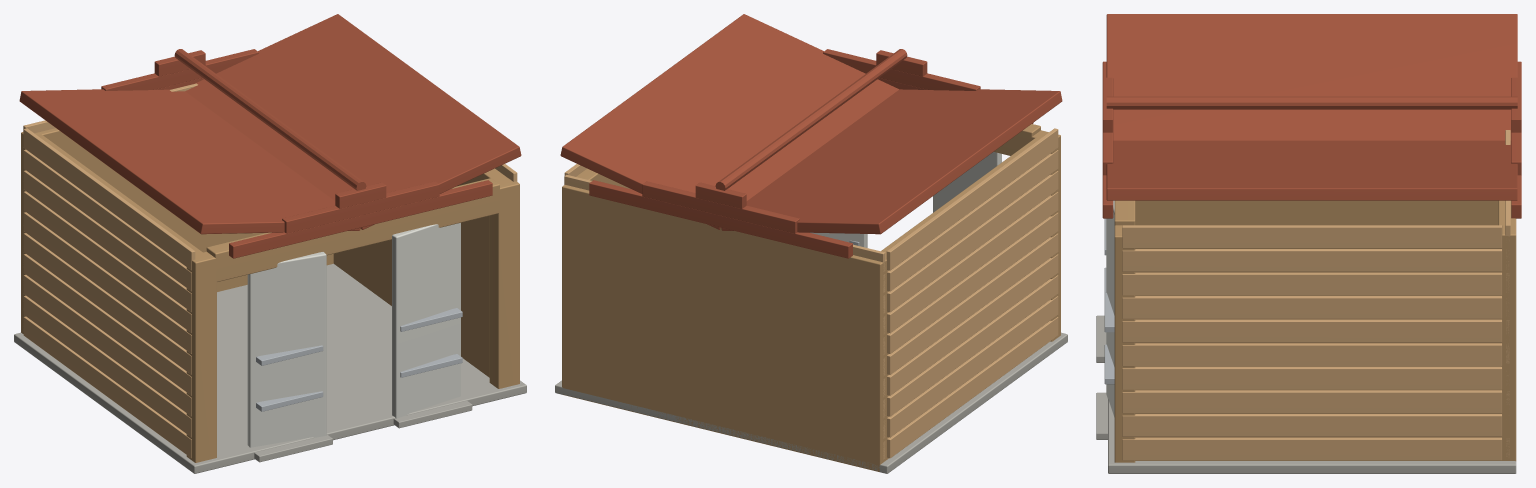
File: garage_timber.glb
The picture shows the model from 3 angles, left to right: view 1: azimuth 30°, elevation 25°; view 2: azimuth 150°, elevation 25°; view 3: azimuth 270°, elevation 25°; orthographic projection. The views are drawn at different scales.
Visible parts, largest first — view 1: Garage roof slope.003, Tint.011, Garage roof slope.002, Garage slab.001, Garage side wall.003, Door jamb.001, Door lintel, Door jamb, Garage back wall.001, Timber cladding.009, Roof gable.009, Timber cladding (+20 smaller); view 2: Garage back wall.001, Garage roof slope.003, Garage roof slope.002, Garage slab.001, Timber cladding.009, Roof gable.006, Timber cladding, Timber cladding.001, Timber cladding.005, Timber cladding.007, Timber cladding.008, Timber cladding.003 (+13 smaller); view 3: Garage roof slope.002, Garage roof slope.003, Garage side wall.002, Timber cladding.019, Timber cladding.010, Timber cladding.012, Timber cladding.013, Timber cladding.015, Timber cladding.017, Timber cladding.014, Timber cladding.011, Timber cladding.018 (+12 smaller).
Boxes of the visible parts, x1,y1,x2,y2 form: Garage roof slope.003: [185, 14, 521, 229]; Tint.011: [247, 223, 460, 447]; Garage roof slope.002: [19, 89, 360, 234]; Garage slab.001: [14, 263, 526, 473]; Garage side wall.003: [333, 168, 507, 377]; Door jamb.001: [489, 178, 519, 388]; Door lintel: [206, 178, 499, 281]; Door jamb: [186, 251, 216, 462]; Garage back wall.001: [21, 128, 333, 333]; Timber cladding.009: [23, 128, 195, 270]; Roof gable.009: [229, 180, 492, 258]; Timber cladding: [23, 316, 191, 458]; Garage back wall.001: [562, 185, 887, 471]; Garage roof slope.003: [560, 14, 898, 229]; Garage roof slope.002: [721, 89, 1062, 234]; Garage slab.001: [555, 332, 1067, 473]; Timber cladding.009: [886, 128, 1058, 270]; Roof gable.006: [589, 180, 852, 258]; Timber cladding: [887, 317, 1058, 458]; Timber cladding.001: [887, 296, 1058, 437]; Timber cladding.005: [887, 212, 1058, 353]; Timber cladding.007: [887, 171, 1058, 312]; Timber cladding.008: [887, 150, 1058, 291]; Timber cladding.003: [887, 254, 1058, 395]; Garage roof slope.002: [1106, 14, 1517, 140]; Garage roof slope.003: [1106, 140, 1517, 200]; Garage side wall.002: [1135, 200, 1498, 225]; Timber cladding.019: [1122, 225, 1502, 248]; Timber cladding.010: [1122, 437, 1502, 460]; Timber cladding.012: [1122, 390, 1502, 413]; Timber cladding.013: [1122, 366, 1502, 389]; Timber cladding.015: [1122, 319, 1502, 342]; Timber cladding.017: [1122, 272, 1502, 295]; Timber cladding.014: [1122, 343, 1502, 366]; Timber cladding.011: [1122, 414, 1502, 436]; Timber cladding.018: [1122, 249, 1502, 271].
Size of the model in its own units: 3.34 by 2.42 by 3.27.
